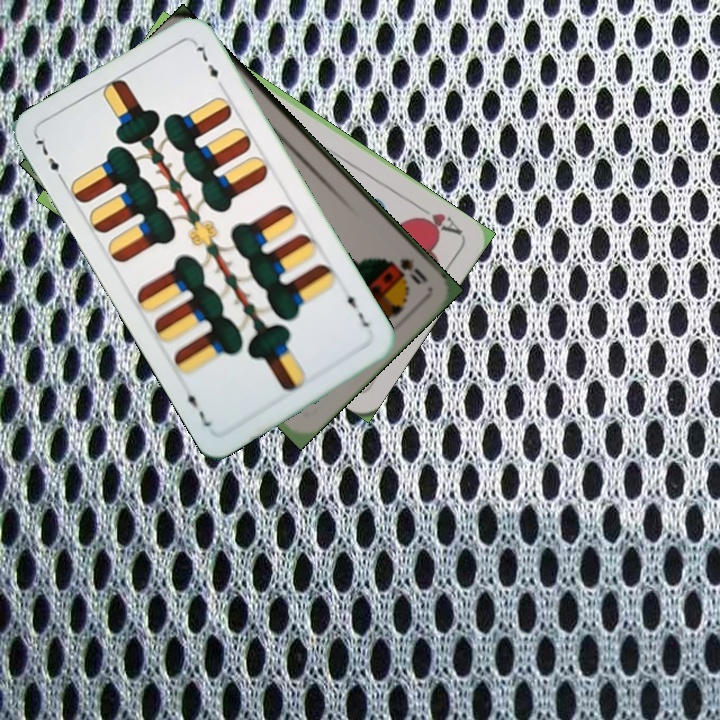E7: (31, 132, 68, 186), (342, 285, 373, 330)
HA: (411, 200, 465, 238)
SO: (386, 254, 431, 288)
